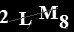2: (1, 8, 9, 24)
8: (57, 14, 70, 29)
L: (17, 11, 33, 26)
M: (37, 5, 59, 20)
